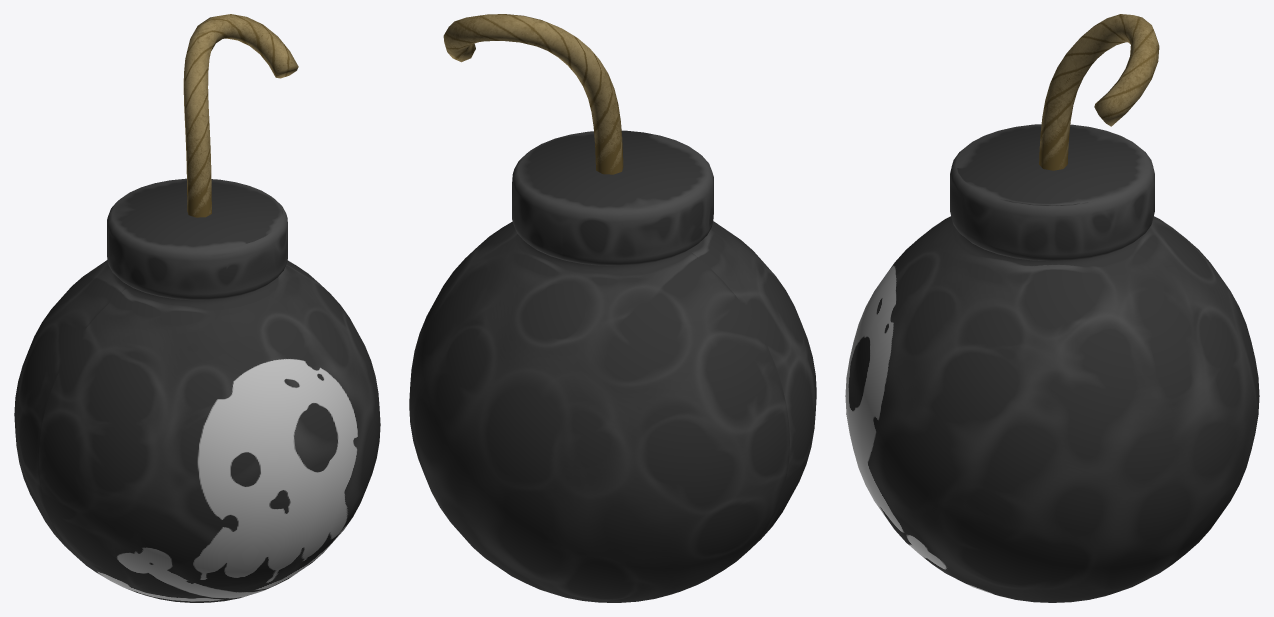
The model's file is Grenade.fbx.
3 views of the same model, side by side, from view 1: azimuth 30°, elevation 25°; view 2: azimuth 150°, elevation 25°; view 3: azimuth 270°, elevation 25° (orthographic). The views are drawn at different scales.
Parts seen in each view (by area): view 1: Basketball_Ball_Skin_Grenade; view 2: Basketball_Ball_Skin_Grenade; view 3: Basketball_Ball_Skin_Grenade.
Part boxes in pixels (x1=…): Basketball_Ball_Skin_Grenade: x1=14, y1=14, x2=380, y2=602; Basketball_Ball_Skin_Grenade: x1=409, y1=14, x2=816, y2=602; Basketball_Ball_Skin_Grenade: x1=845, y1=14, x2=1259, y2=602.
Size of the model in its own units: 0.2402 by 0.38 by 0.2402.
Materials: 1 (1 with a texture image).
